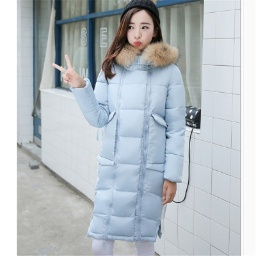face: (103, 1, 176, 76)
